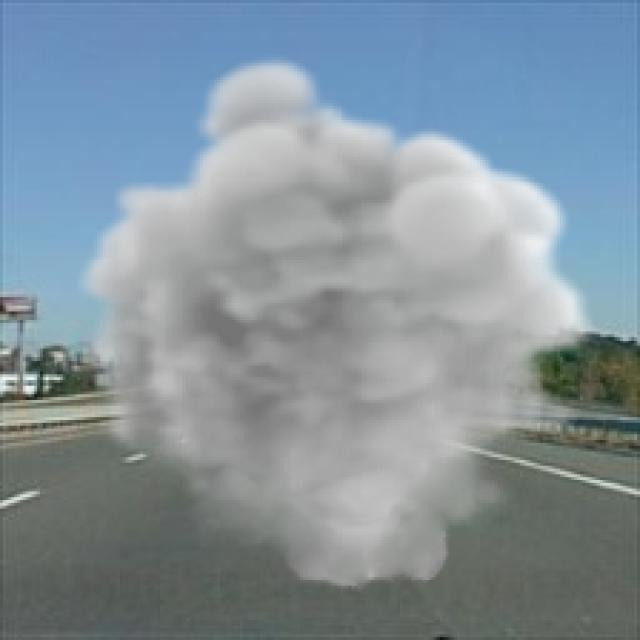smoke: (77, 51, 597, 592)
